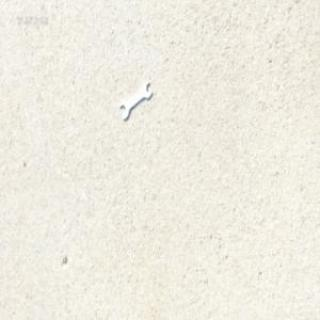Wrenchtrack_idkeyframe: (119, 80, 151, 118)
